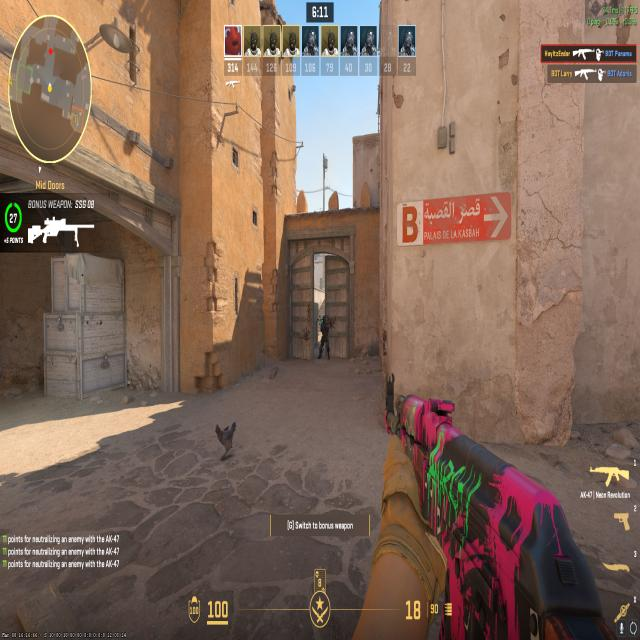ct: (314, 310, 331, 360)
